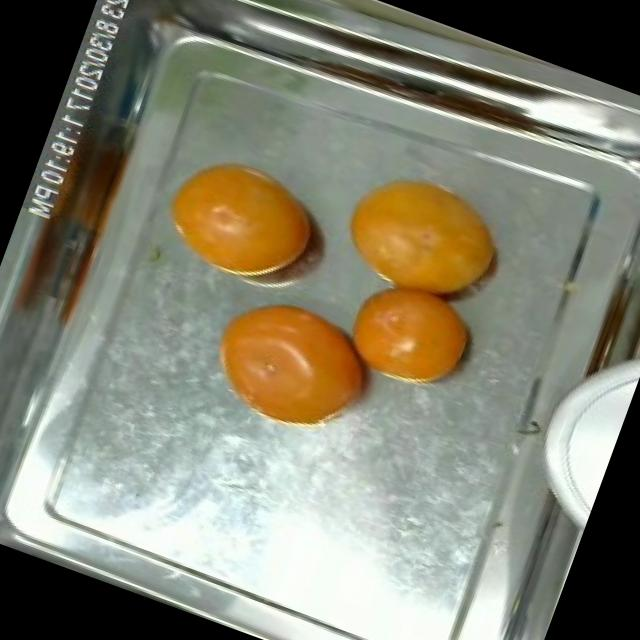Fruit: (186, 273, 398, 457), (318, 148, 526, 328), (144, 134, 338, 304), (324, 254, 496, 406)
